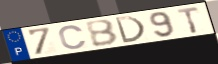7: (28, 26, 53, 57)
9: (148, 11, 177, 38)
B: (84, 18, 121, 48)
C: (58, 24, 88, 50)
D: (113, 15, 147, 44)
T: (176, 6, 201, 35)
